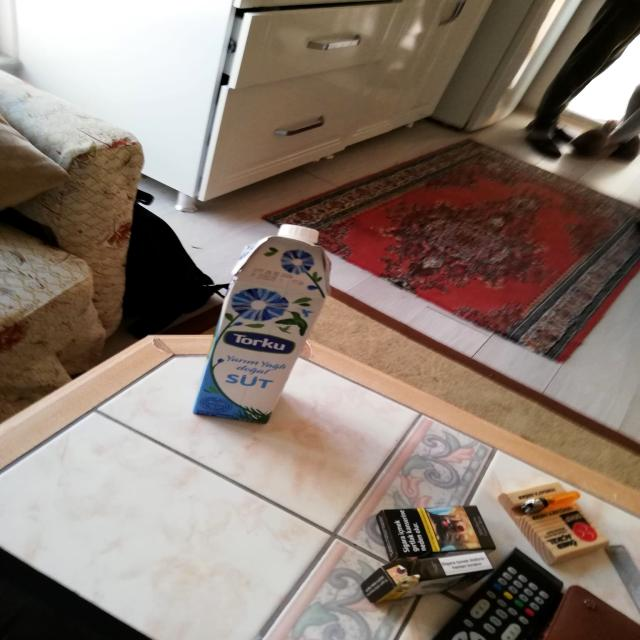milk: (188, 220, 338, 432)
